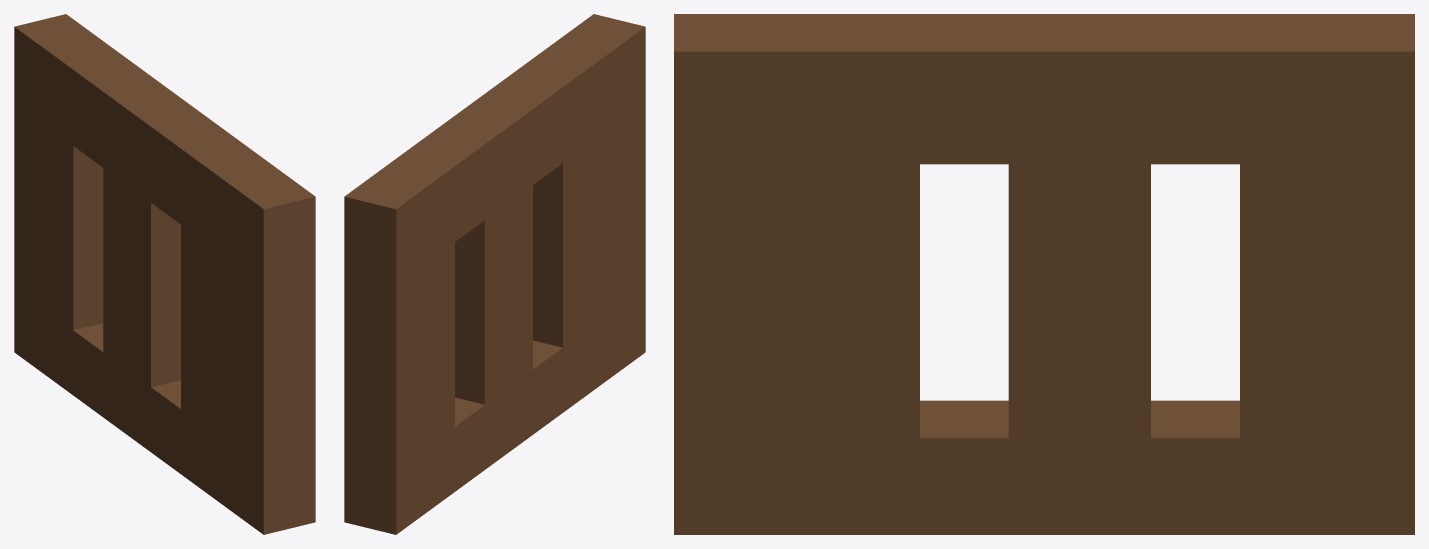
The model's file is wall18.fbx.
3 renders of one model, left to right at view 1: azimuth 30°, elevation 25°; view 2: azimuth 150°, elevation 25°; view 3: azimuth 270°, elevation 25°, orthographic. The views are drawn at different scales.
Visible parts, largest first — view 1: wall18; view 2: wall18; view 3: wall18.
Boxes of the visible parts, left/top/right/bottom form: wall18: left=14, top=14, right=315, bottom=534; wall18: left=344, top=14, right=645, bottom=534; wall18: left=674, top=14, right=1414, bottom=534.
Size of the model in its own units: 197 by 1181 by 1640.
